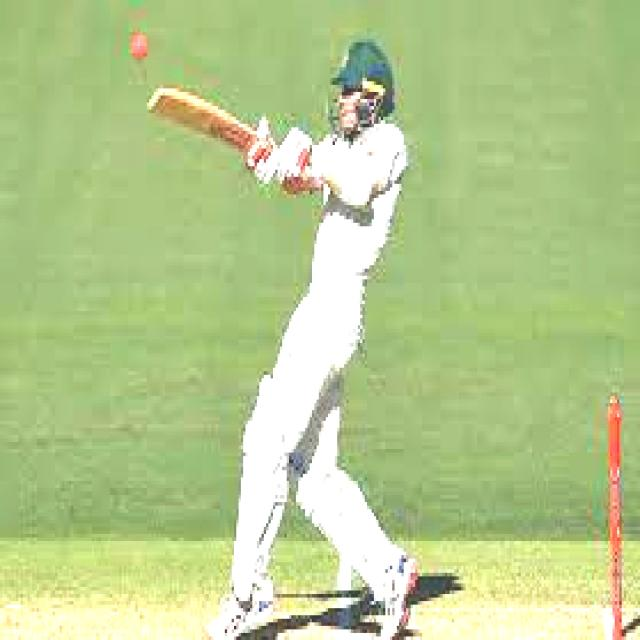toe: (142, 82, 175, 118)
